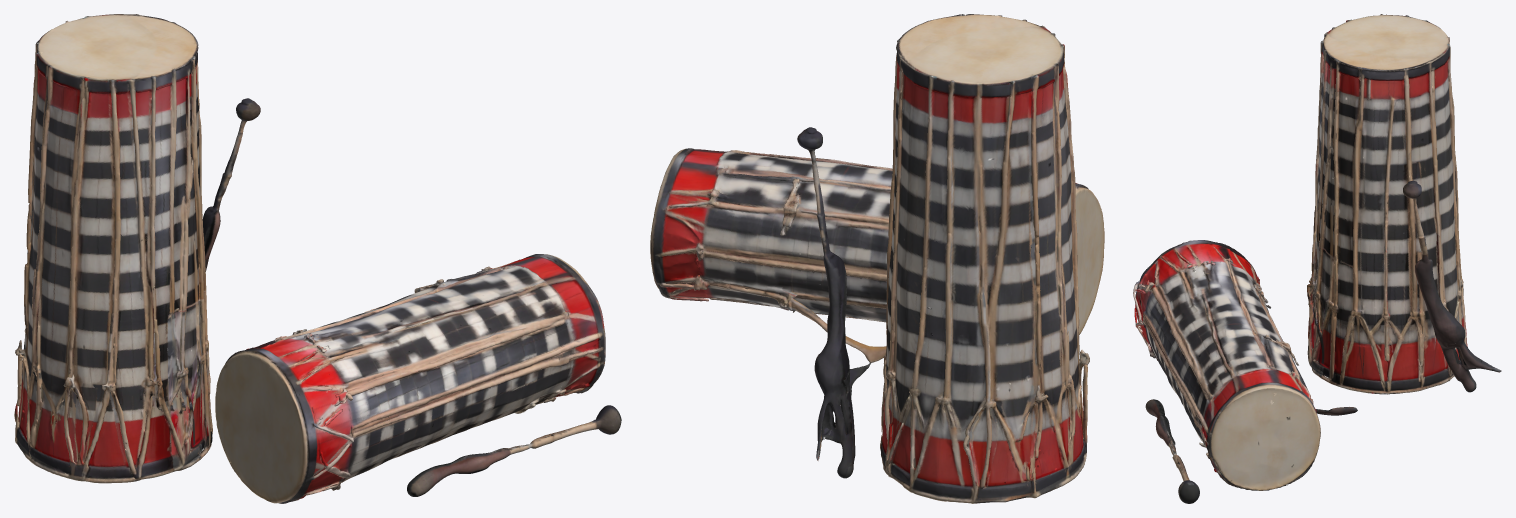
The model's file is benda6.glb.
3 renders of one model, left to right at view 1: azimuth 30°, elevation 25°; view 2: azimuth 150°, elevation 25°; view 3: azimuth 270°, elevation 25°, orthographic. The views are drawn at different scales.
Parts seen in each view (by area): view 1: Mesh_0; view 2: Mesh_0; view 3: Mesh_0.
Part boxes in pixels (x1,y1,x2,y2): Mesh_0: (14, 14, 621, 503); Mesh_0: (650, 14, 1104, 503); Mesh_0: (1133, 14, 1501, 503).
Bounding box in the file's own units: 2 × 1.62 × 1.69.
Materials: 1 (1 with a texture image).
